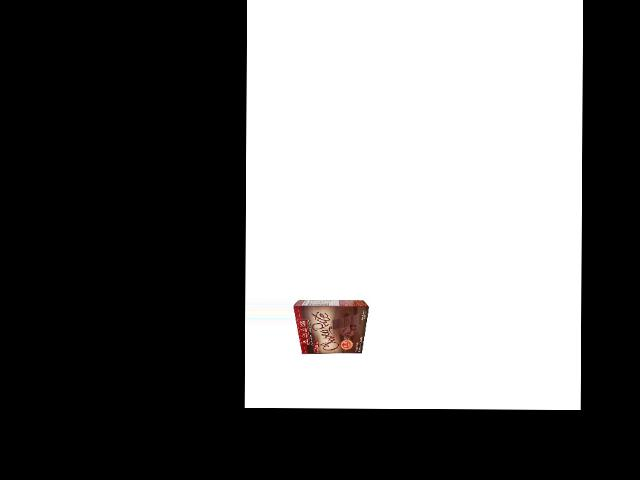chocolate: (295, 300, 369, 355)
